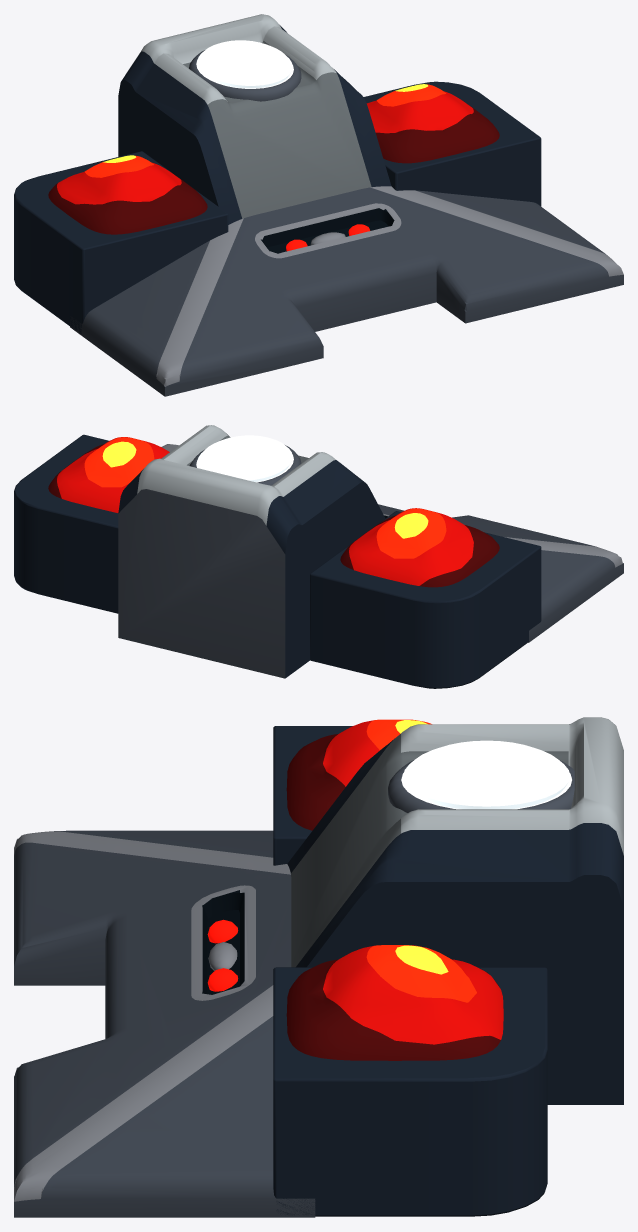
File: marker.glb
The picture shows the model from 3 angles, top to bottom: view 1: azimuth 30°, elevation 25°; view 2: azimuth 150°, elevation 25°; view 3: azimuth 270°, elevation 25°; orthographic projection. The views are drawn at different scales.
Visible parts, largest first — view 1: base, housing, lamp_frame, lamp_frame_right, lamp_glass, lamp_glass_right, lens; view 2: housing, lamp_frame, lamp_frame_right, lamp_glass, base, lamp_glass_right, lens; view 3: base, housing, lamp_frame_right, lamp_glass_right, lens, lamp_glass, lamp_frame.
Boxes of the visible parts, bbox=[...] form: base: bbox=[70, 186, 623, 396]; housing: bbox=[118, 14, 391, 224]; lamp_frame: bbox=[14, 151, 228, 334]; lamp_frame_right: bbox=[363, 81, 541, 206]; lamp_glass: bbox=[48, 155, 207, 234]; lamp_glass_right: bbox=[366, 84, 499, 163]; lens: bbox=[189, 40, 301, 101]; housing: bbox=[118, 425, 385, 678]; lamp_frame: bbox=[310, 511, 541, 688]; lamp_frame_right: bbox=[14, 434, 118, 613]; lamp_glass: bbox=[340, 508, 499, 587]; base: bbox=[161, 444, 623, 642]; lamp_glass_right: bbox=[48, 437, 169, 512]; lens: bbox=[189, 435, 301, 485]; base: bbox=[14, 830, 315, 1217]; housing: bbox=[287, 717, 623, 1104]; lamp_frame_right: bbox=[273, 967, 547, 1216]; lamp_glass_right: bbox=[286, 945, 503, 1060]; lens: bbox=[388, 740, 574, 812]; lamp_glass: bbox=[286, 719, 431, 830]; lamp_frame: bbox=[273, 726, 352, 865].
Size of the model in its own units: 22 by 8.25 by 16.
